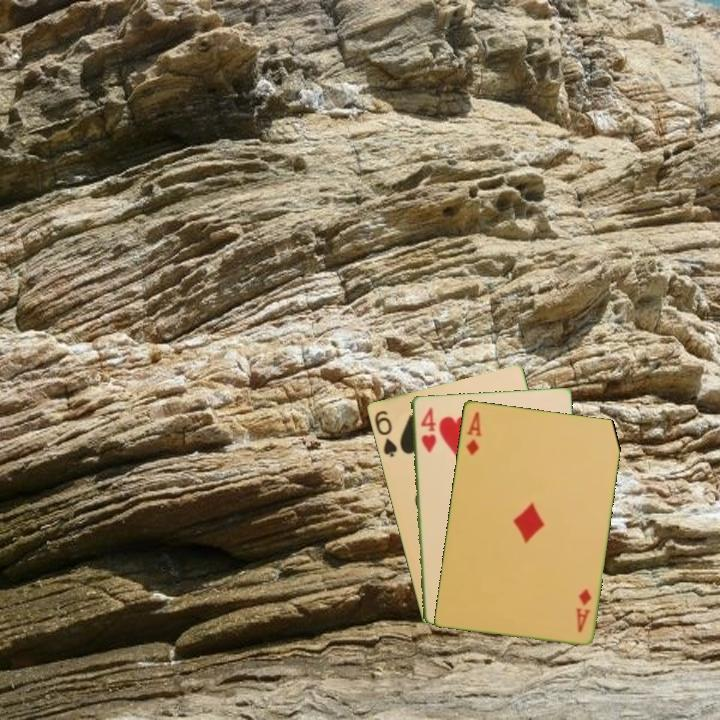4h: (417, 404, 438, 455)
6s: (371, 407, 400, 460)
Ad: (462, 408, 484, 458), (572, 585, 594, 635)
